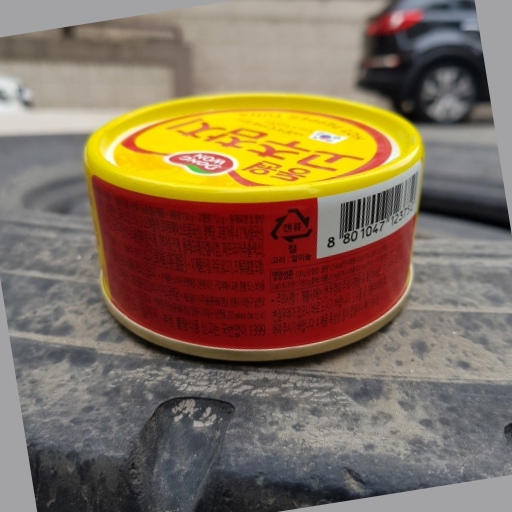Metal_1: (81, 89, 426, 361)
